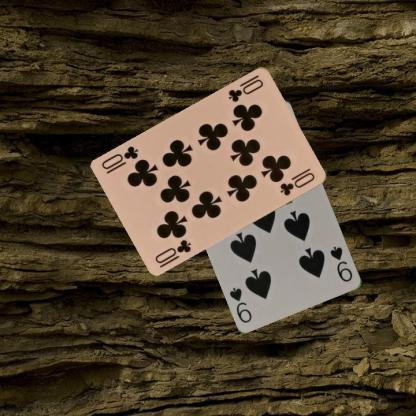10c: (152, 236, 194, 269), (225, 76, 265, 103)
9s: (327, 244, 354, 284)
